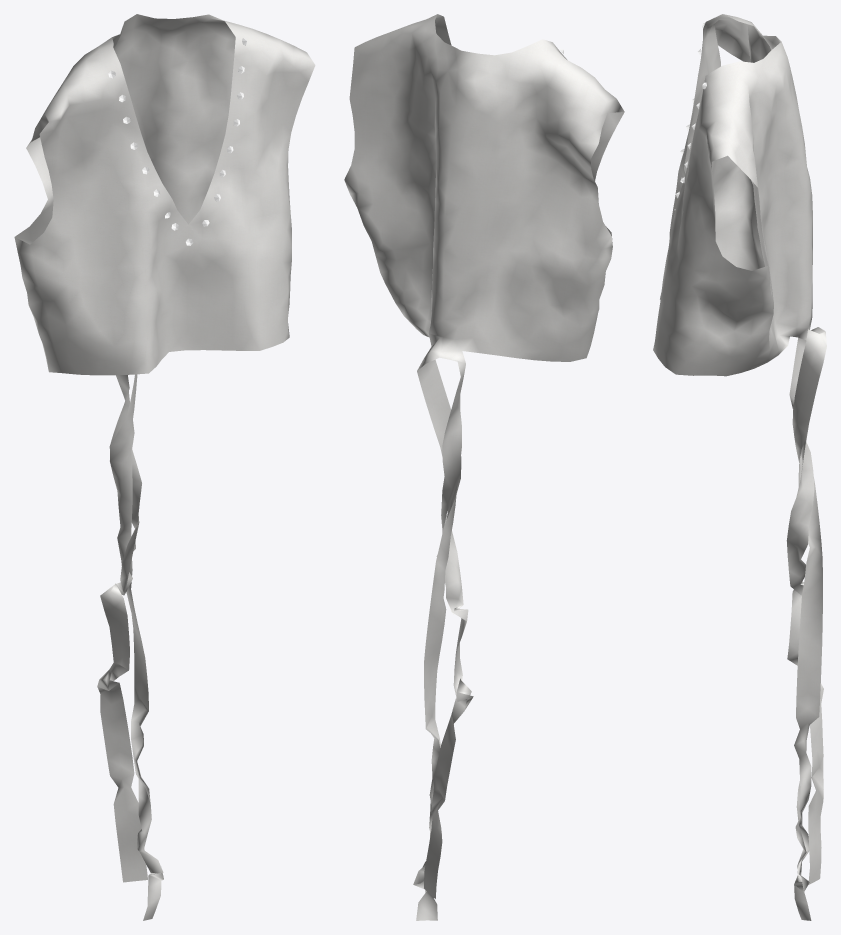
File: top02.fbx
The picture shows the model from 3 angles, left to right: view 1: azimuth 30°, elevation 25°; view 2: azimuth 150°, elevation 25°; view 3: azimuth 270°, elevation 25°; orthographic projection. The views are drawn at different scales.
Parts seen in each view (by area): view 1: top02; view 2: top02; view 3: top02.
Boxes of the visible parts, box(x1,y1,x2,y2) form: top02: box(14, 14, 315, 920); top02: box(344, 14, 624, 920); top02: box(653, 14, 826, 920).
Bounding box in the file's own units: 318 × 994 × 180.
